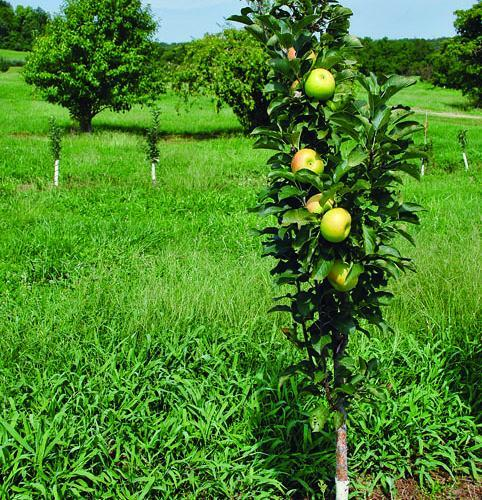apple: (326, 260, 360, 293), (319, 209, 351, 243), (303, 69, 335, 101), (289, 150, 324, 175), (304, 193, 331, 216)
